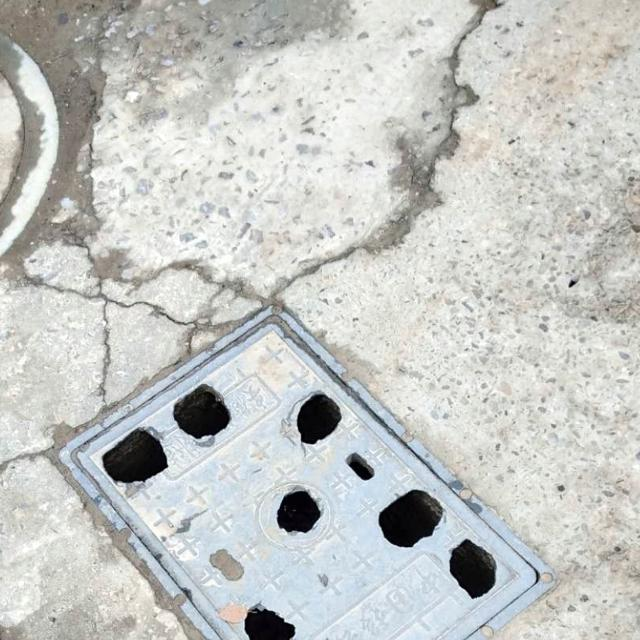broke: (52, 304, 556, 640)
